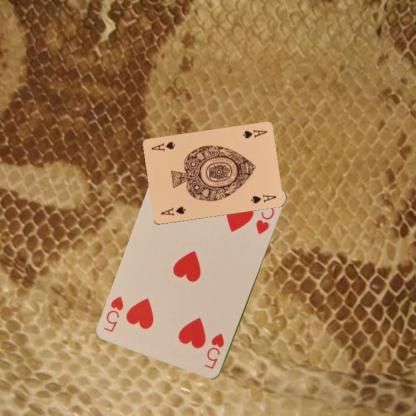5h: (202, 330, 226, 371)
As: (158, 204, 186, 217), (240, 127, 268, 140)
